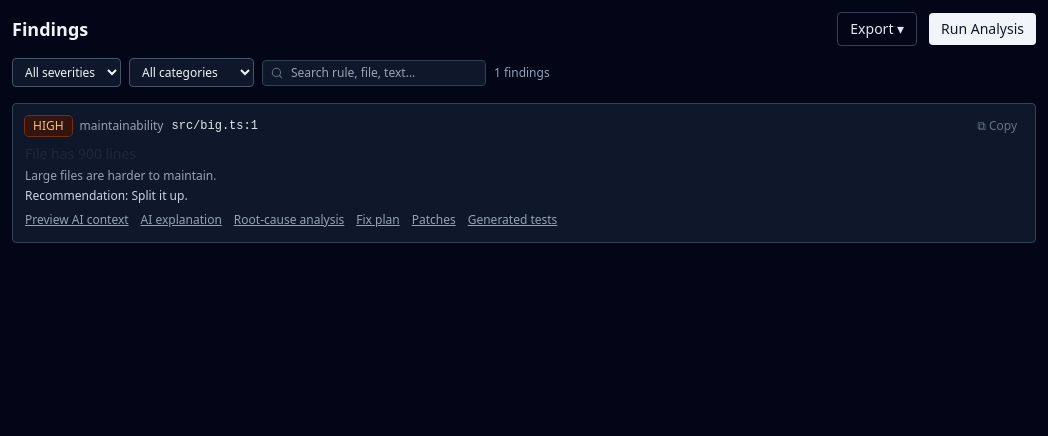
it: FindingsPage › generates and displays a root-cause analysis with evidence and inference kept distinct
This screenshot has width=1048, height=436.
Expected: the text "src/big.ts:1" is shown, 172,118 -> 258,134
Click the button "Root-cause analysis" at (289,220), box 234,212 -> 344,228
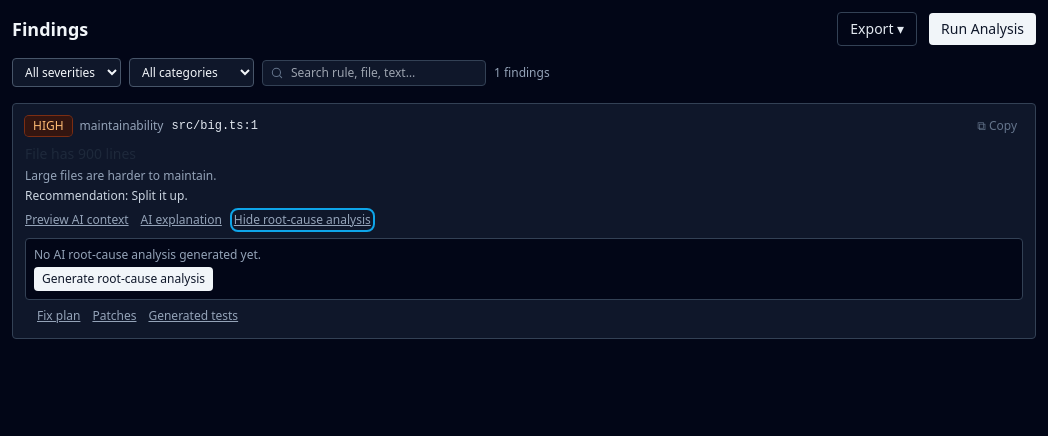
Expected: the text "No AI root-cause analysis generated yet." is shown, 34,246 -> 261,263
Click the button "Generate root-cause analysis" at (124,279), box 34,267 -> 213,291
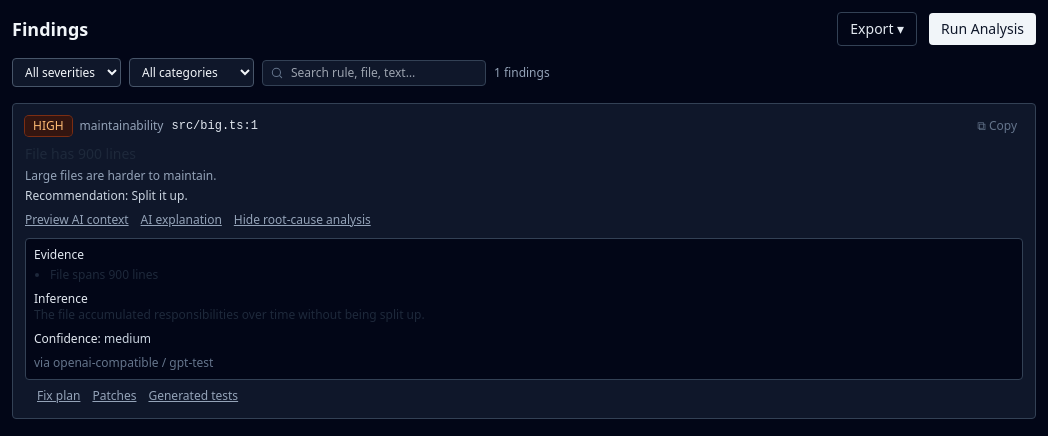
Expected: the list item "File spans 900 lines" is shown, 50,266 -> 158,283
Expected: the text "The file accumulated responsibilities over time without being split up." is shown, 34,306 -> 425,323
Expected: the text "Confidence: medium" is shown, 34,330 -> 151,347
